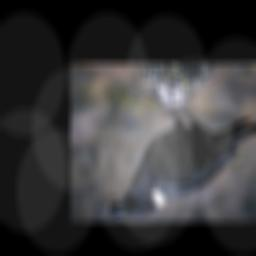Crow: (106, 90, 256, 219)
